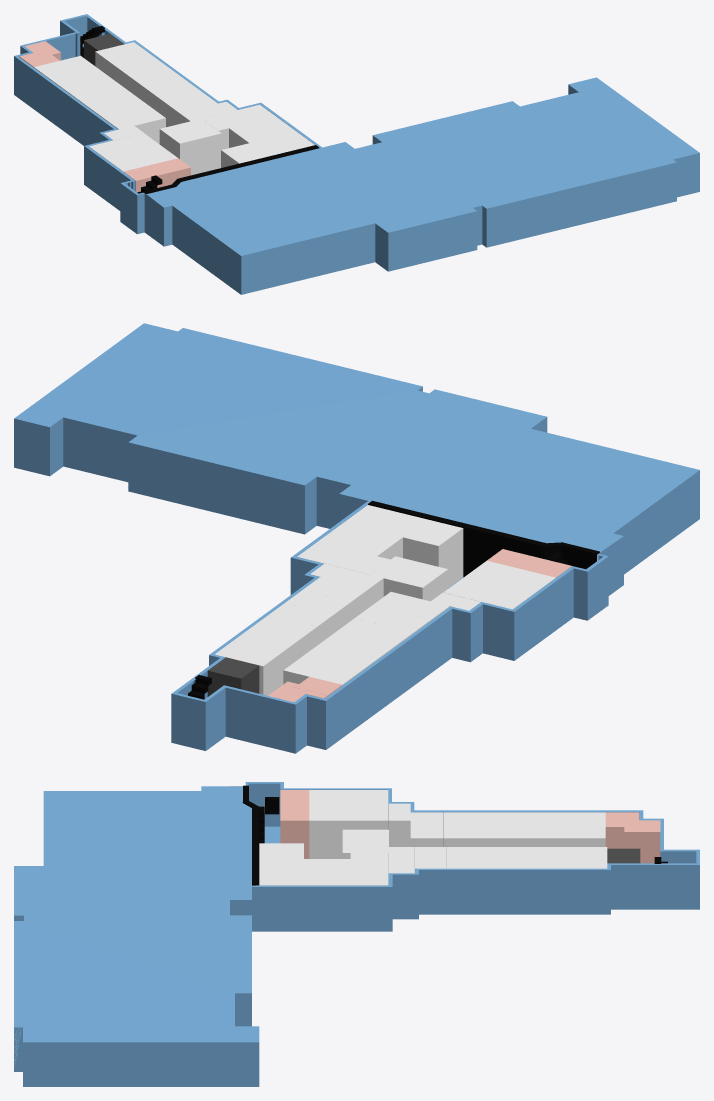
The picture shows the model from 3 angles, top to bottom: view 1: azimuth 30°, elevation 25°; view 2: azimuth 150°, elevation 25°; view 3: azimuth 270°, elevation 25°; orthographic projection. The views are drawn at different scales.
Visible parts, largest first — view 1: object, ディスカッションスペース1, ユーザテストルーム, ディスカッションスペース2, 1408, 1402, 1405, 1403, 1406, 1407, 1404, 1413 (+8 smaller); view 2: object, ディスカッションスペース1, ディスカッションスペース2, ユーザテストルーム, 1407, エレベーター_1_4, 1413, 1406, 1405, 1403, 1402, 1401 (+6 smaller); view 3: object, ディスカッションスペース1, ディスカッションスペース2, 女子トイレ_1_4_2, 1408, ユーザテストルーム, 1413, 女子トイレ_1_4_1, 1409, 1410, 1411, 1412 (+11 smaller).
Part boxes in pixels (box(x1,y1,x2,y2)): object: box(14, 14, 699, 294); ディスカッションスペース1: box(202, 104, 314, 167); ユーザテストルーム: box(159, 119, 221, 175); ディスカッションスペース2: box(89, 133, 177, 171); 1408: box(104, 107, 165, 143); 1402: box(165, 93, 217, 127); 1405: box(123, 63, 175, 97); 1403: box(151, 83, 203, 117); 1406: box(109, 52, 161, 86); 1407: box(95, 42, 147, 76); 1404: box(138, 73, 189, 106); 1413: box(34, 55, 94, 77); object: box(14, 323, 699, 753); ディスカッションスペース1: box(297, 505, 463, 587); ディスカッションスペース2: box(443, 561, 555, 609); ユーザテストルーム: box(370, 556, 448, 601); 1407: box(215, 641, 280, 695); エレベーター_1_4: box(207, 657, 259, 696); 1413: box(283, 657, 360, 685); 1406: box(232, 628, 298, 685); 1405: box(250, 615, 316, 658); 1403: box(285, 590, 351, 633); 1402: box(303, 577, 369, 619); 1401: box(310, 563, 383, 606); object: box(14, 782, 699, 1086); ディスカッションスペース1: box(259, 843, 388, 885); ディスカッションスペース2: box(309, 790, 388, 858); 女子トイレ_1_4_2: box(280, 805, 309, 858); 1408: box(410, 812, 443, 872); ユーザテストルーム: box(342, 829, 388, 885); 1413: box(572, 812, 605, 846); 女子トイレ_1_4_1: box(632, 812, 660, 863); 1409: box(444, 812, 476, 868); 1410: box(477, 812, 510, 846); 1411: box(510, 812, 541, 846); 1412: box(541, 812, 572, 846).
Bounding box in the file's own units: 2.05 × 0.1736 × 2.29.
